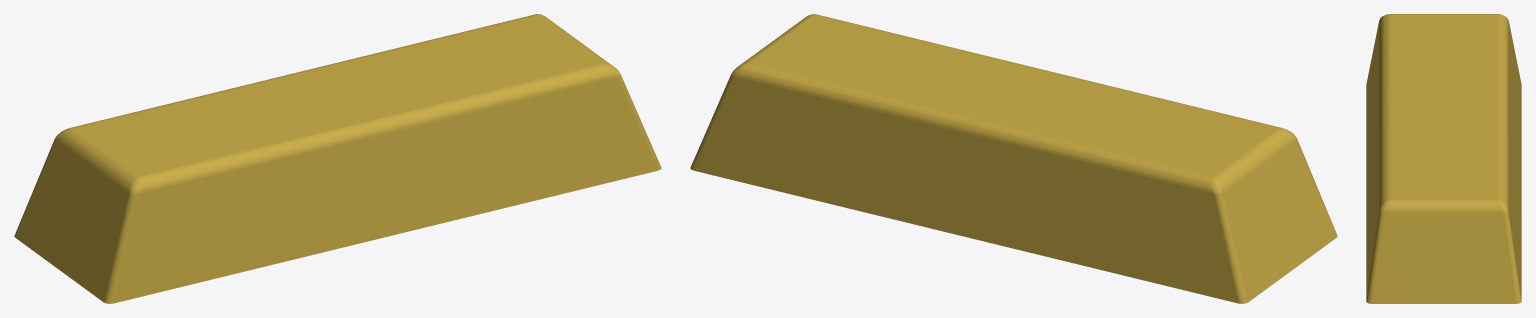
File: AlekGoldBAR.fbx
3 views of the same model, side by side, from view 1: azimuth 30°, elevation 25°; view 2: azimuth 150°, elevation 25°; view 3: azimuth 270°, elevation 25° (orthographic). The views are drawn at different scales.
Parts seen in each view (by area): view 1: pCube1; view 2: pCube1; view 3: pCube1.
Part boxes in pixels (x1=…): pCube1: x1=14, y1=14, x2=661, y2=303; pCube1: x1=690, y1=14, x2=1337, y2=303; pCube1: x1=1366, y1=14, x2=1521, y2=303.
Bounding box in the file's own units: 4.64 × 0.8453 × 1.38.
